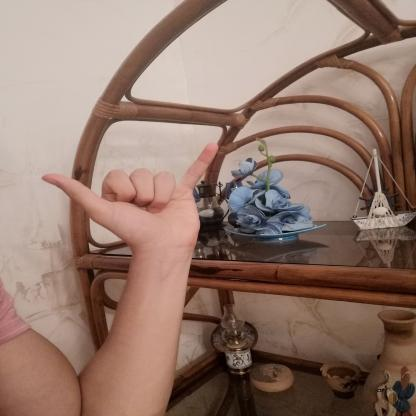YA: (28, 134, 236, 260)
